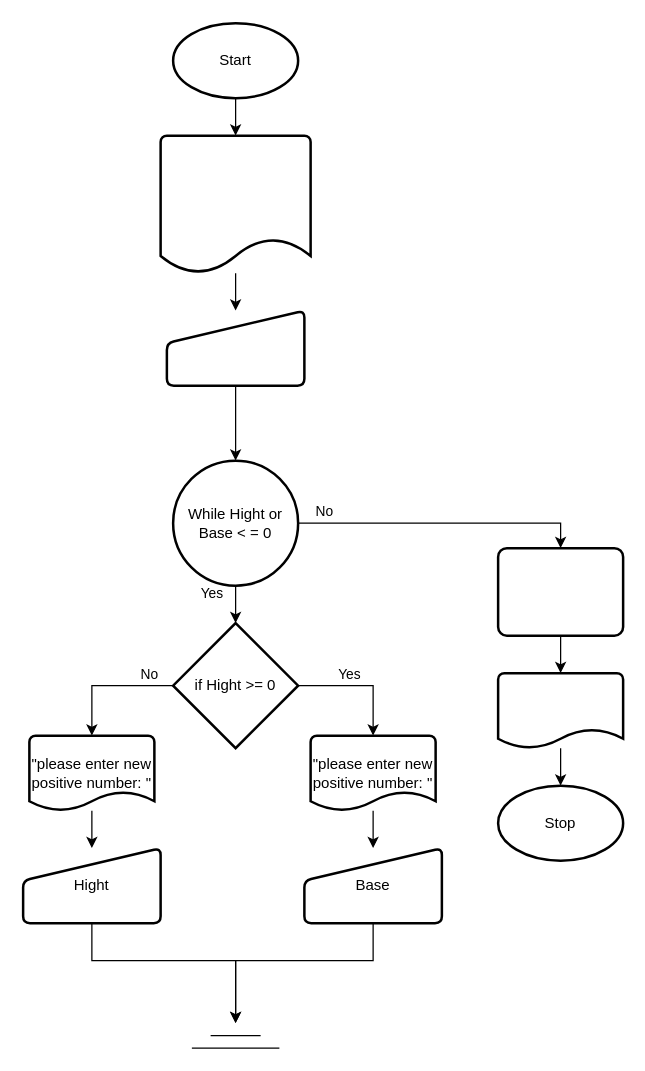
This 645x1071 diagram has some shape labels left out. The centre of each missing label's shape, as x and y in pixels:
"Enter a number for Hight: " "Enter a number for Base: ": pixel 235 204
"The serface is: ", serface: pixel 560 710
Hight Base: pixel 235 347
serface = (Hight * Base) / 2: pixel 560 591
